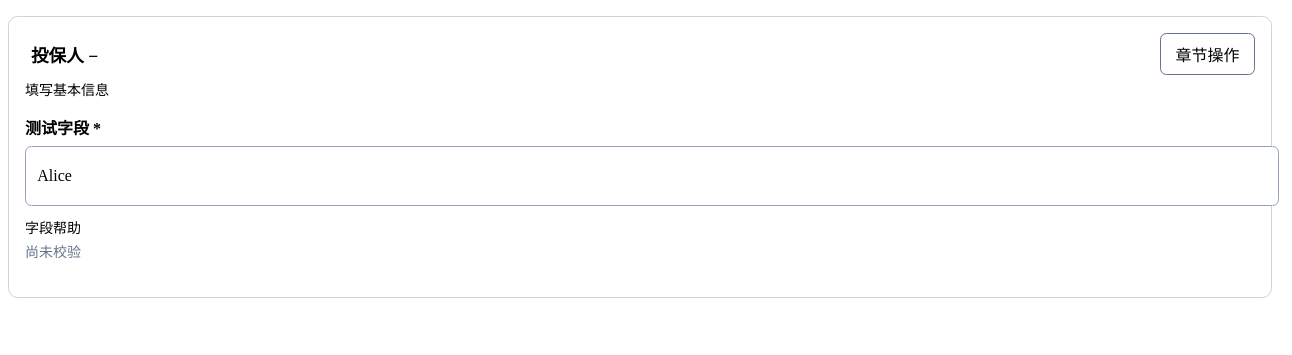
it: collapses only presentation and retains written data and validation
Later steps or results of the test are not shown.
Check: the text "填写基本信息" is shown, box x1=25 y1=83 x2=109 y2=98
Clear the field at (652, 176), box x1=25 y1=146 x2=1279 y2=206
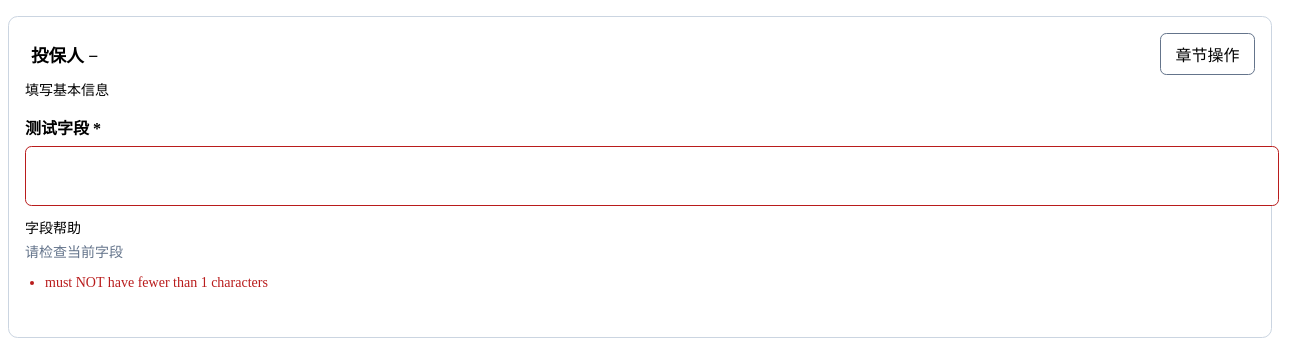
Click the button "投保人 −" at (65, 54), box x1=25 y1=40 x2=104 y2=68
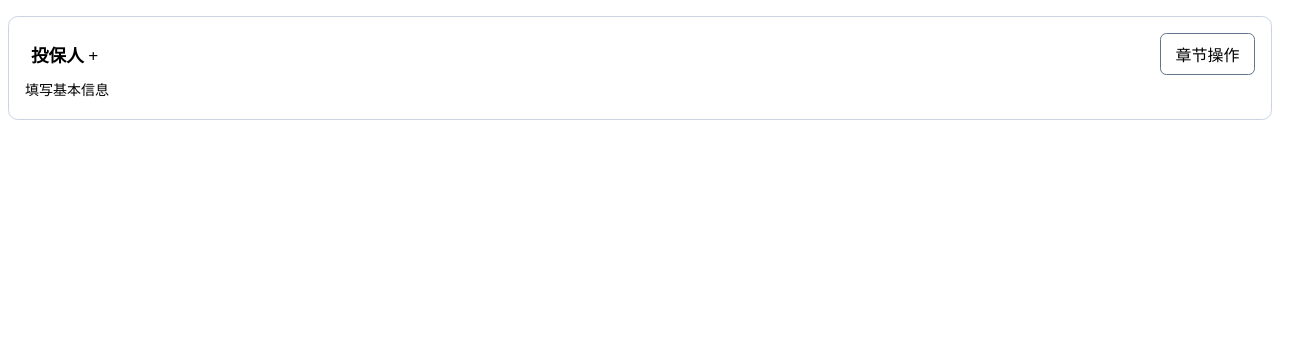
Check: the field is gone
